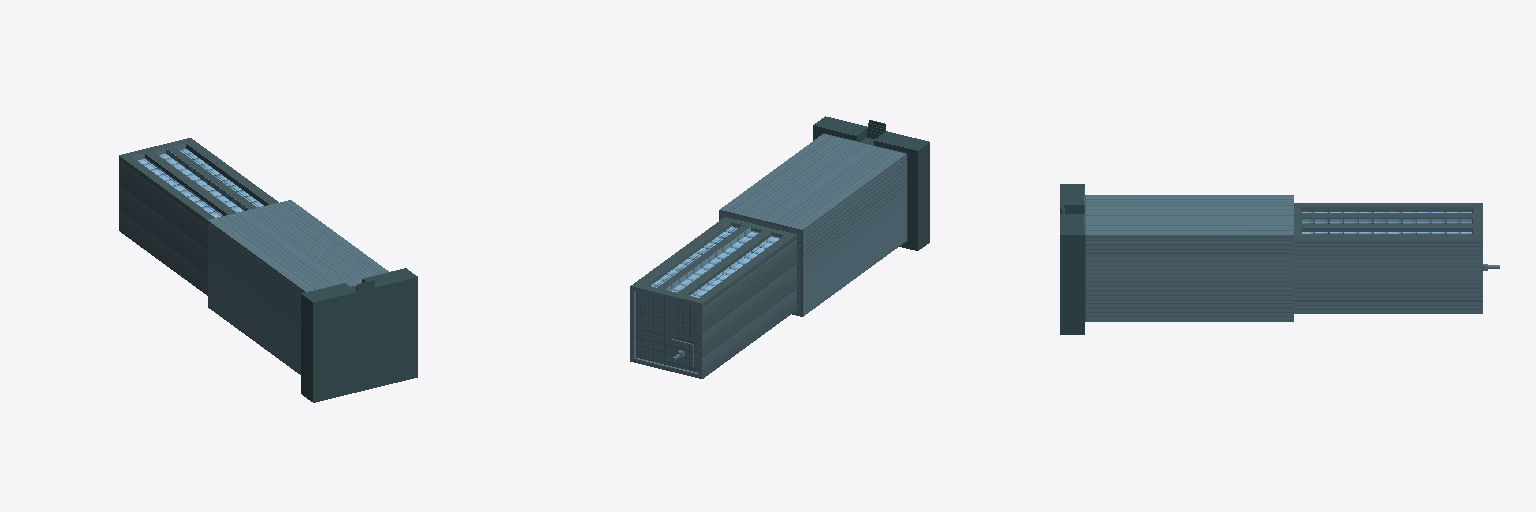
3 views of the same model, side by side, from view 1: azimuth 30°, elevation 25°; view 2: azimuth 150°, elevation 25°; view 3: azimuth 270°, elevation 25° (orthographic).
Visible parts, largest first — view 1: buildings-comercial-08_Cube.099; view 2: buildings-comercial-08_Cube.099; view 3: buildings-comercial-08_Cube.099.
Boxes of the visible parts, <box> form: buildings-comercial-08_Cube.099: <box>119,138,417,402</box>; buildings-comercial-08_Cube.099: <box>630,116,929,378</box>; buildings-comercial-08_Cube.099: <box>1060,184,1499,334</box>.
Bounding box in the file's own units: 3.89 × 3.81 × 14.1.
1 materials, 1 textured.